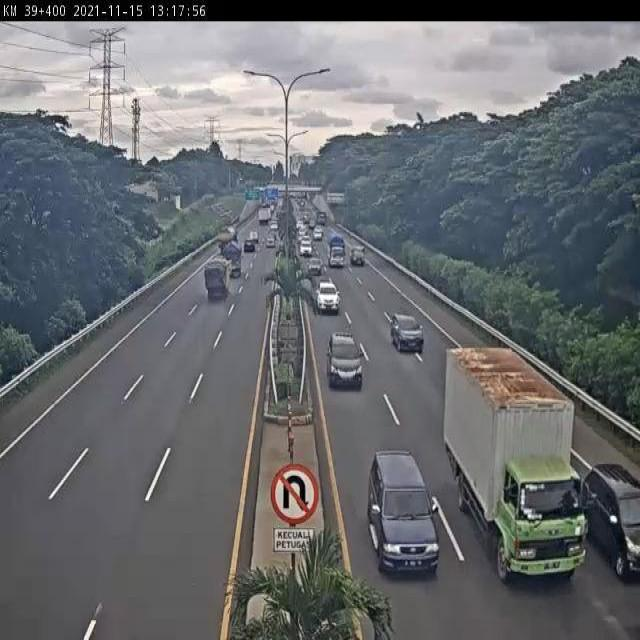car: (365, 445, 440, 579), (583, 459, 640, 581), (326, 332, 366, 391), (389, 309, 426, 355), (315, 279, 341, 316), (307, 255, 324, 277)
truck-m-: (442, 346, 587, 586), (203, 259, 230, 304), (141, 297, 165, 336)
